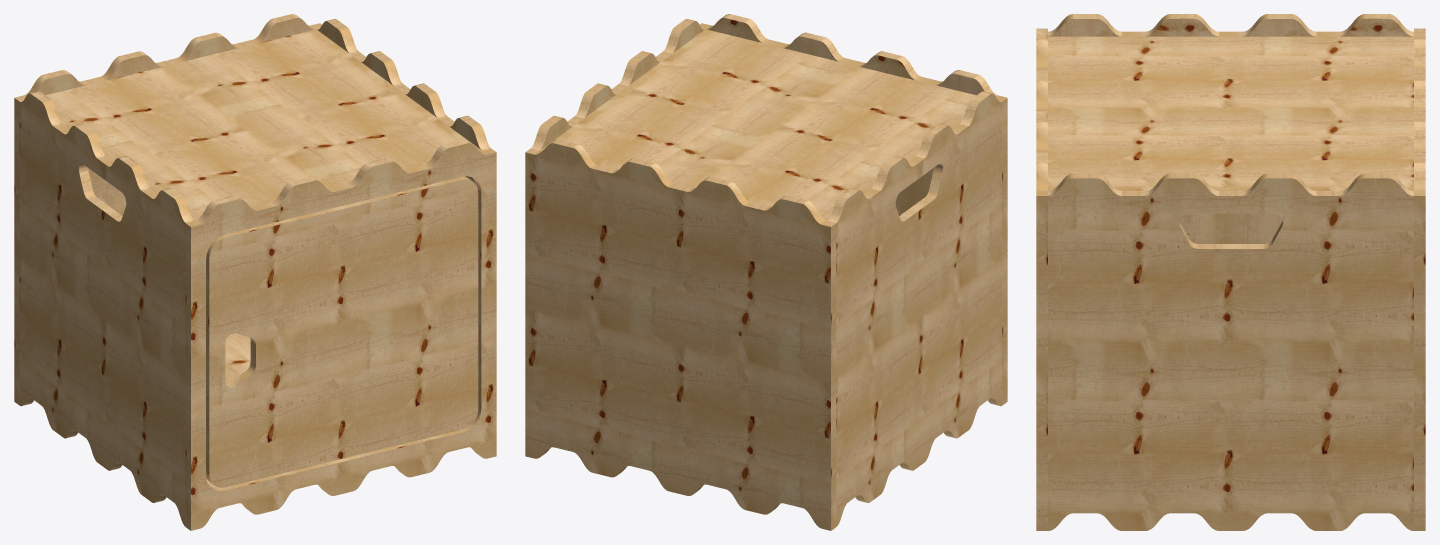
File: one_one_center_scale.glb
3 views of the same model, side by side, from view 1: azimuth 30°, elevation 25°; view 2: azimuth 150°, elevation 25°; view 3: azimuth 270°, elevation 25° (orthographic). The views are drawn at different scales.
Visible parts, largest first — view 1: one_one.center.scale; view 2: one_one.center.scale; view 3: one_one.center.scale.
Boxes of the visible parts, left/top/right/bottom form: one_one.center.scale: left=14, top=14, right=496, bottom=530; one_one.center.scale: left=525, top=14, right=1007, bottom=530; one_one.center.scale: left=1036, top=14, right=1425, bottom=530.
Bounding box in the file's own units: 0.4998 × 0.4998 × 0.4998.
Materials: 1 (1 with a texture image).
